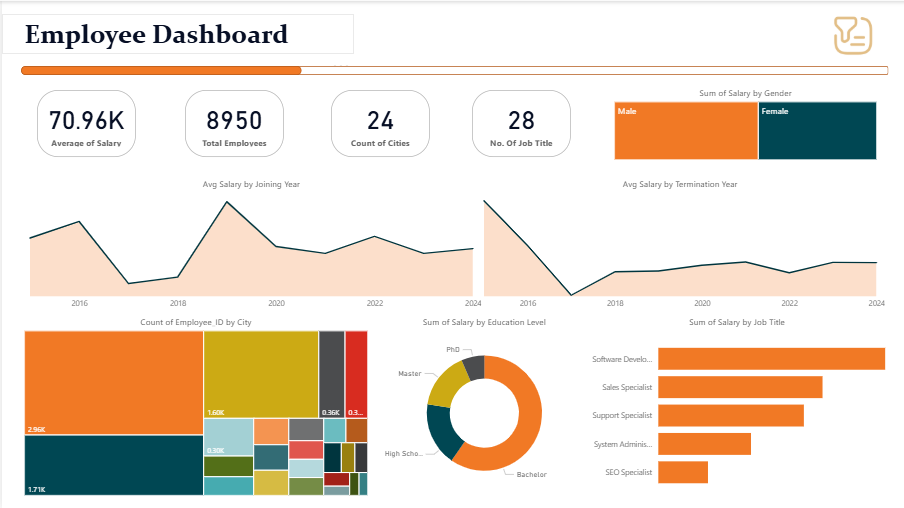

The page's visual inventory and layout, read from the dashboard file:
{"tool":"powerbi","page":{"name":"Employee Dashboard","canvas":[1280,720],"ordinal":0},"visuals":[{"type":"textbox","box":[0,19.1,499.5,55.7],"z":0},{"type":"donutChart","fields":{"Category":["HumanResources.Education Level"],"Y":["Sum(HumanResources.Salary)"]},"box":[536,447,295.9,259.3],"z":1000},{"type":"areaChart","title":"Avg Salary by Termination Year","fields":{"Category":["HumanResources.Termdate.Variation.Date Hierarchy.Year","HumanResources.Termdate.Variation.Date Hierarchy.Quarter","HumanResources.Termdate.Variation.Date Hierarchy.Month","HumanResources.Termdate.Variation.Date Hierarchy.Day"],"Y":["Avg(HumanResources.Salary)"]},"box":[666.5,251.3,590.1,195.6],"z":2000},{"type":"areaChart","title":"Avg Salary by Joining Year","fields":{"Category":["HumanResources.Hiredate.Variation.Date Hierarchy.Year","HumanResources.Hiredate.Variation.Date Hierarchy.Quarter","HumanResources.Hiredate.Variation.Date Hierarchy.Month","HumanResources.Hiredate.Variation.Date Hierarchy.Day"],"Y":["Avg(HumanResources.Salary)"]},"box":[22.3,251.3,661.7,195.6],"z":3000},{"type":"card","fields":{"Values":["Avg(HumanResources.Salary)"]},"box":[49.3,125.7,140,95.4],"z":4000},{"type":"card","fields":{"Values":["Count(HumanResources.Employee_ID)"]},"box":[259.3,125.7,140,95.4],"z":5000},{"type":"card","fields":{"Values":["Count(HumanResources.City)"]},"box":[466,125.7,140,95.4],"z":6000},{"type":"card","fields":{"Values":["Count(HumanResources.Job Title)"]},"box":[666.5,125.7,140,95.4],"z":7000},{"type":"treemap","fields":{"Group":["HumanResources.City"],"Values":["CountNonNull(HumanResources.Employee_ID)"]},"box":[27,447,496.3,259.3],"z":8000},{"type":"barChart","fields":{"Category":["HumanResources.Job Title"],"Y":["Sum(HumanResources.Salary)"]},"box":[819.2,447,445.4,259.3],"z":9000},{"type":"treemap","fields":{"Group":["HumanResources.Gender"],"Values":["Sum(HumanResources.Salary)"]},"box":[863.7,122.5,381.7,108.2],"z":10000},{"type":"shape","box":[405.6,92.3,851,12.7],"z":10500},{"type":"shape","box":[27,92.3,397.7,12.7],"z":11000},{"type":"image","title":"openFilter","box":[1165.9,14.3,80,70],"z":13000},{"type":"image","box":[1091.2,14.3,74.8,81.1],"z":15000}]}

Visuals, with their boxes in screenshot pixels (x1, y1, x2, y2), scaled from the page's 1280x720 canvas onto the 904x508 screenshot:
textbox: crop(0, 13, 353, 53)
donutChart - HumanResources.Education Level x Sum(HumanResources.Salary): crop(379, 315, 588, 498)
"Avg Salary by Termination Year" areaChart: crop(471, 177, 887, 315)
"Avg Salary by Joining Year" areaChart: crop(16, 177, 483, 315)
card - Avg(HumanResources.Salary): crop(35, 89, 134, 156)
card - Count(HumanResources.Employee_ID): crop(183, 89, 282, 156)
card - Count(HumanResources.City): crop(329, 89, 428, 156)
card - Count(HumanResources.Job Title): crop(471, 89, 570, 156)
treemap - HumanResources.City x CountNonNull(HumanResources.Employee_ID): crop(19, 315, 370, 498)
barChart - HumanResources.Job Title x Sum(HumanResources.Salary): crop(579, 315, 893, 498)
treemap - HumanResources.Gender x Sum(HumanResources.Salary): crop(610, 86, 880, 163)
shape: crop(286, 65, 887, 74)
shape: crop(19, 65, 300, 74)
"openFilter" image: crop(823, 10, 880, 59)
image: crop(771, 10, 823, 67)
